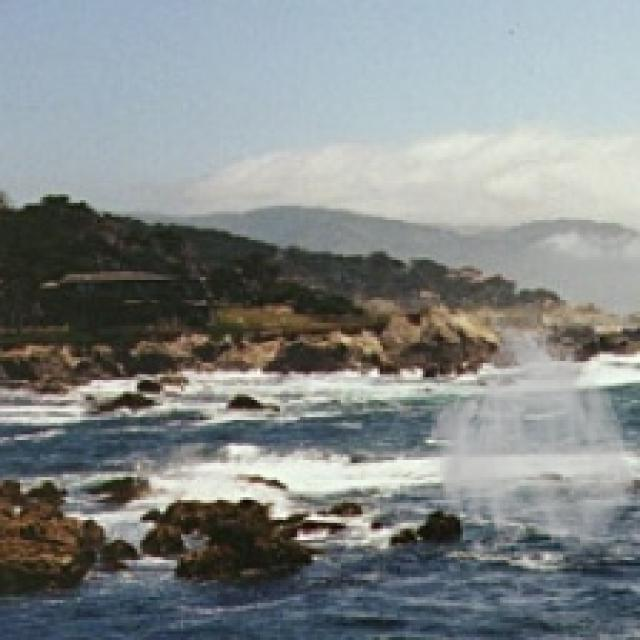smoke: (426, 312, 634, 557)
